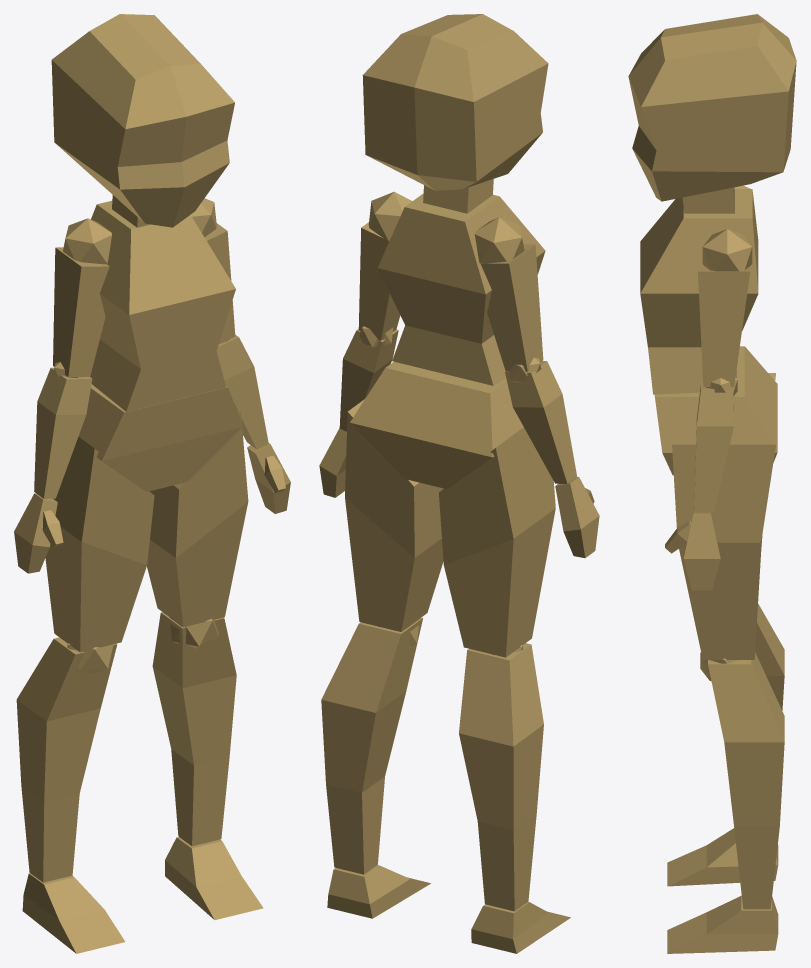
File: asset.gltf
3 renders of one model, left to right at view 1: azimuth 30°, elevation 25°; view 2: azimuth 150°, elevation 25°; view 3: azimuth 270°, elevation 25°, orthographic.
Visible parts, largest first — view 1: Cube.001_2; view 2: Cube.001_2; view 3: Cube.001_2.
Part boxes in pixels (x1,y1,x2,y2): Cube.001_2: (14,14,290,953); Cube.001_2: (319,14,599,953); Cube.001_2: (628,14,796,953).
Bounding box in the file's own units: 2.74 × 8.93 × 1.54.
